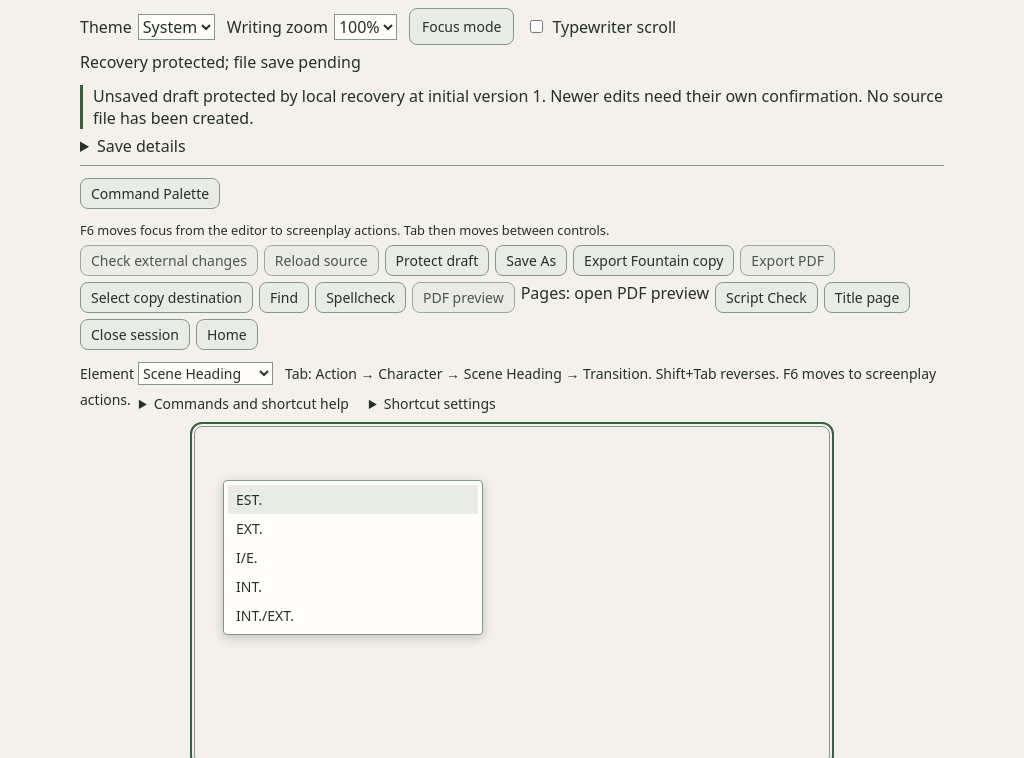
Scenario: M3-12 writing surface › keeps the session on Save As cancellation
Expected: the button "Protect draft" is shown, [385,245,489,276]
Step 1. Click the button "Save As" → (531, 260), box [495,245,567,276]
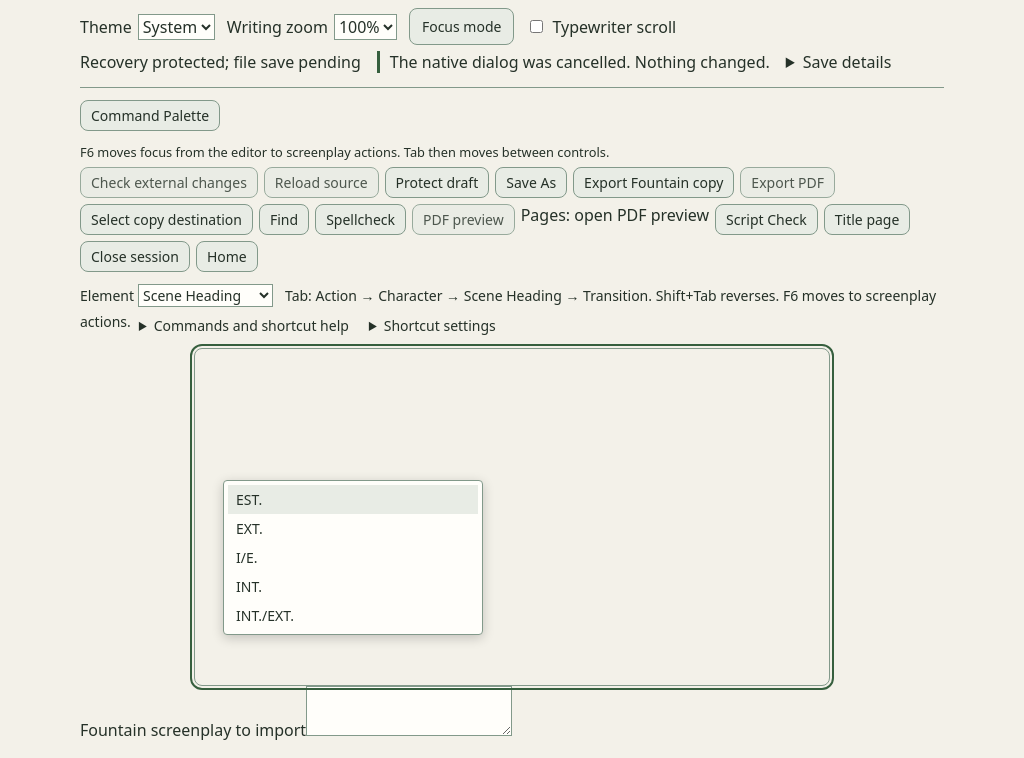
Expected: the button "Protect draft" is shown, [385,167,489,198]
Expected: the text "The native dialog was cancelled. Nothing changed." is shown, [377,51,770,73]
